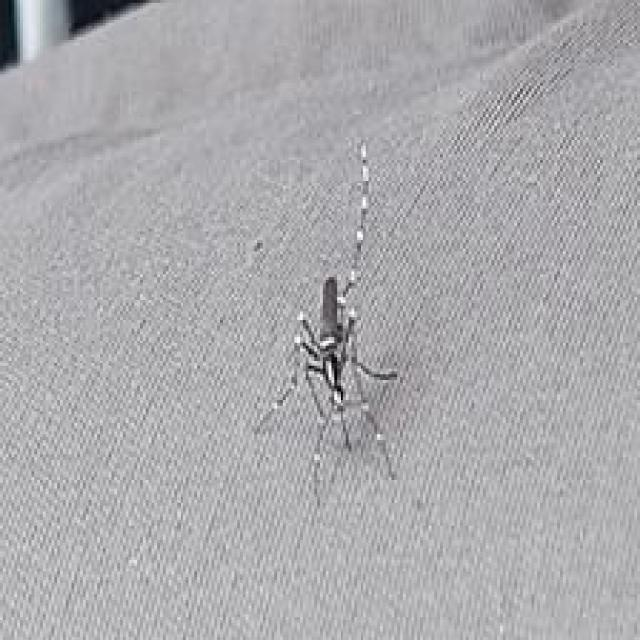Aedes albopictus: (251, 139, 403, 487)
